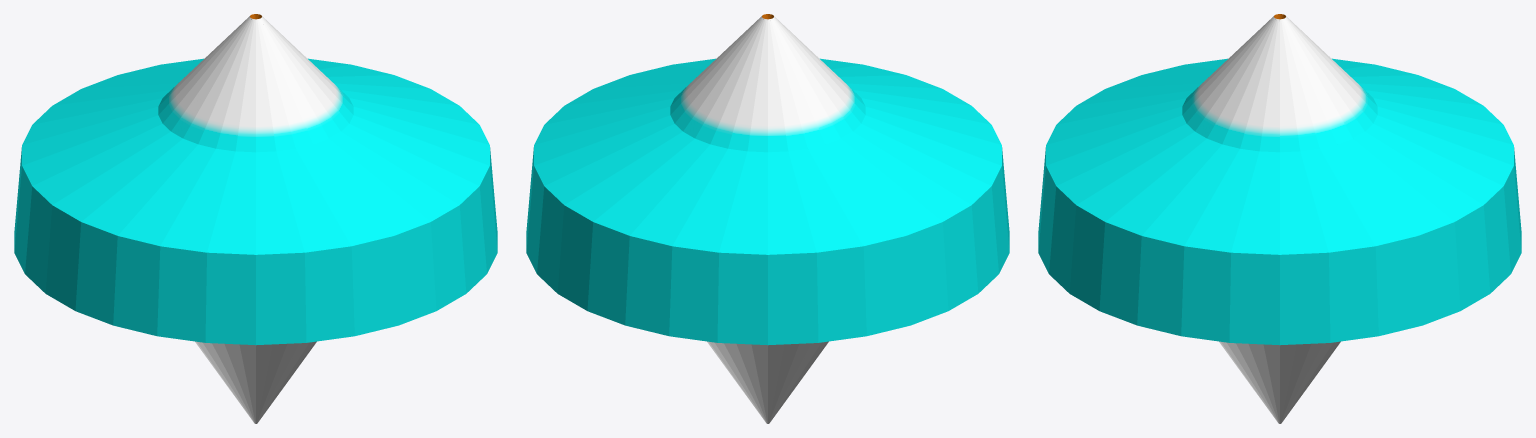
The picture shows the model from 3 angles, left to right: view 1: azimuth 30°, elevation 25°; view 2: azimuth 150°, elevation 25°; view 3: azimuth 270°, elevation 25°; orthographic projection.
Parts seen in each view (by area): view 1: algeomath; view 2: algeomath; view 3: algeomath.
Part boxes in pixels (x1,y1,x2,y2): algeomath: (14,14,497,423); algeomath: (526,14,1009,423); algeomath: (1038,14,1521,423).
Size of the model in its own units: 9.89 by 9.14 by 9.84.
Materials: 1 (1 with a texture image).
